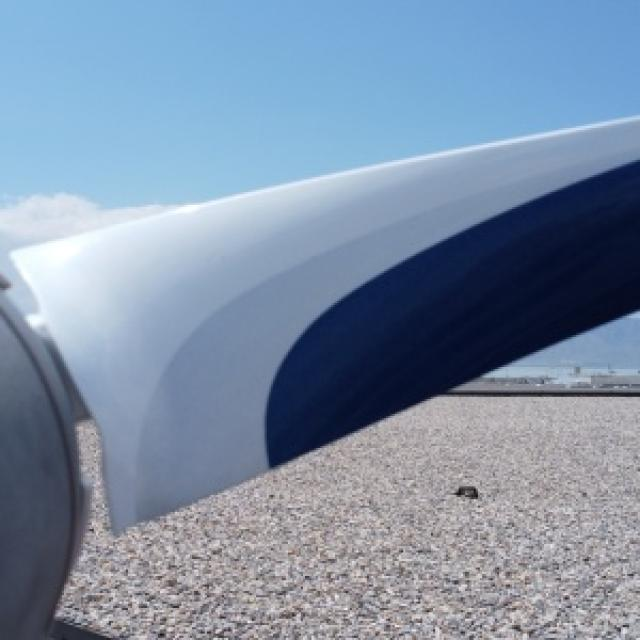healthy: (0, 115, 638, 638)
